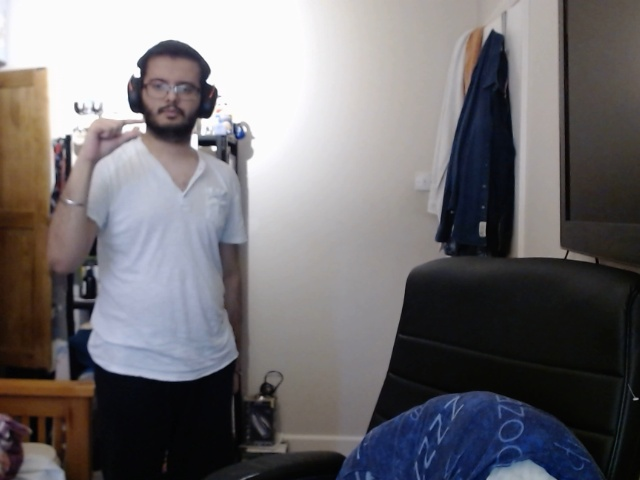Small: (78, 115, 154, 154)
